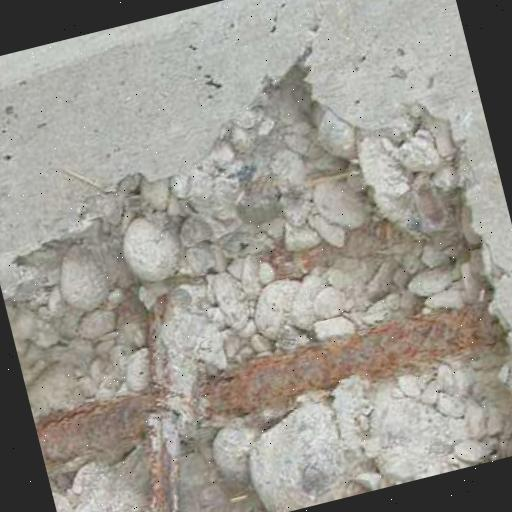spalling: (2, 56, 512, 512)
